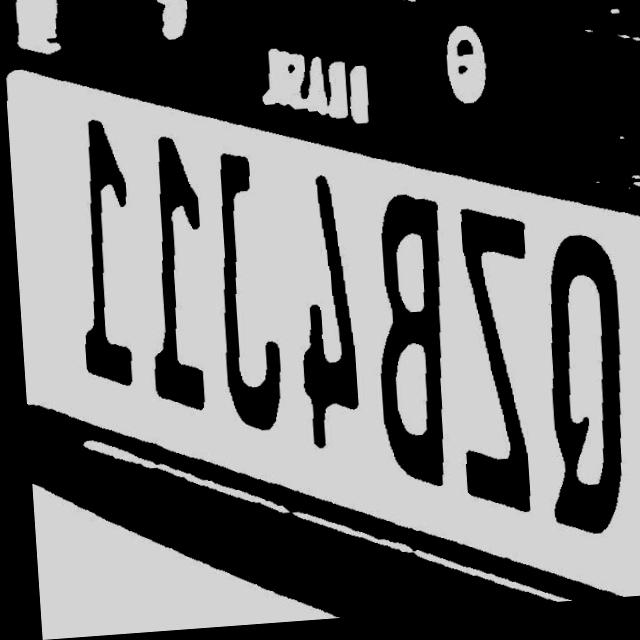1: (45, 118, 144, 399), (132, 129, 215, 417)
4: (281, 174, 367, 459)
b: (364, 191, 451, 501)
j: (203, 147, 287, 446)
q: (532, 237, 629, 545)
z: (441, 202, 537, 531)
